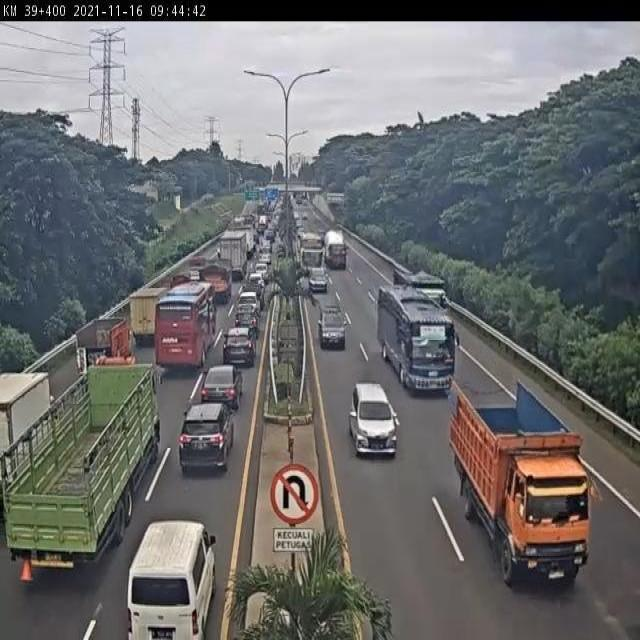Bus: (376, 280, 461, 396), (152, 279, 218, 371), (296, 232, 326, 278)
Car: (177, 402, 236, 474), (348, 382, 398, 458), (199, 364, 243, 412), (222, 325, 257, 368), (318, 303, 348, 350), (233, 304, 261, 338), (308, 267, 329, 294), (237, 292, 260, 315), (252, 262, 271, 283), (247, 272, 266, 288)
Truck: (0, 360, 167, 586), (446, 371, 604, 594), (0, 369, 56, 464), (391, 268, 451, 320), (74, 315, 131, 367), (128, 286, 168, 346), (198, 255, 234, 305), (217, 232, 249, 282), (324, 228, 349, 271)
Van: (126, 518, 218, 640)
